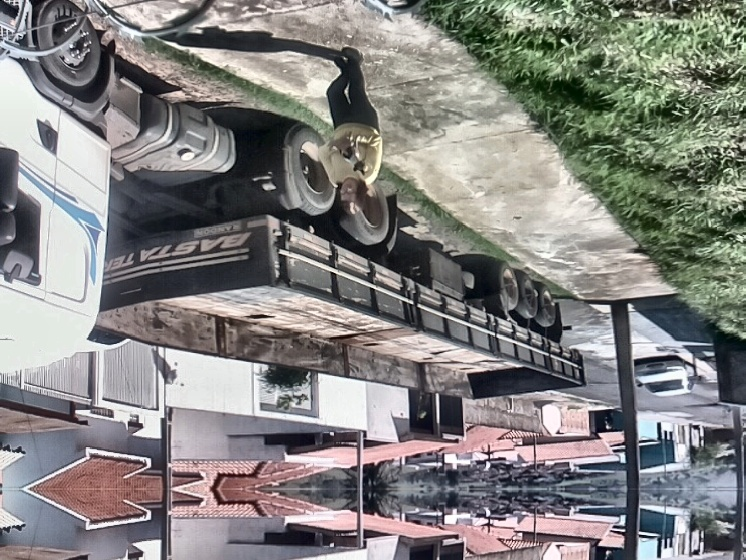person: (318, 46, 387, 217)
